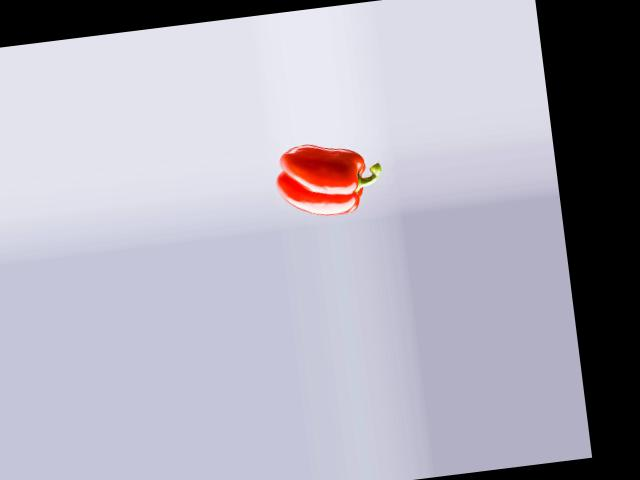bell_pepper: (275, 134, 387, 224)
